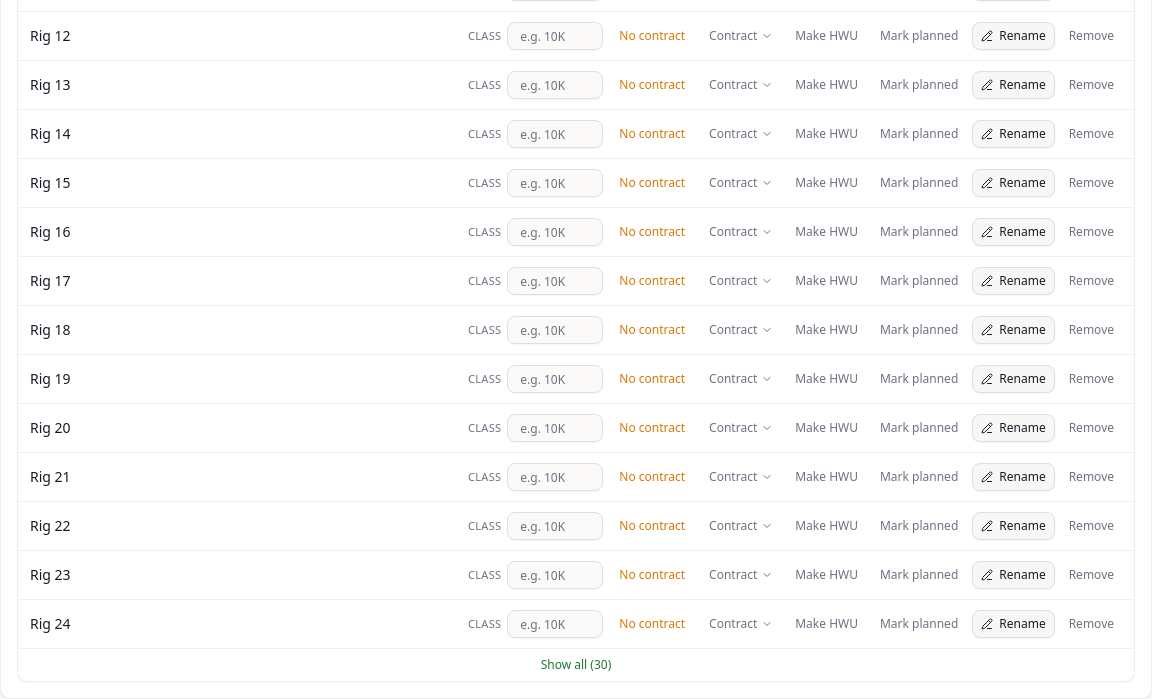
Test: ResourceRegistryPanel › collapses a long tab behind a Show all expander
The width and height of the screenshot is (1152, 699).
(page scrolled)
Expected: the text "Rig 29" is not shown
Click the button "Show all (30)" at (576, 664), box top-left (18, 648), bottom-right (1134, 681)
(page scrolled)
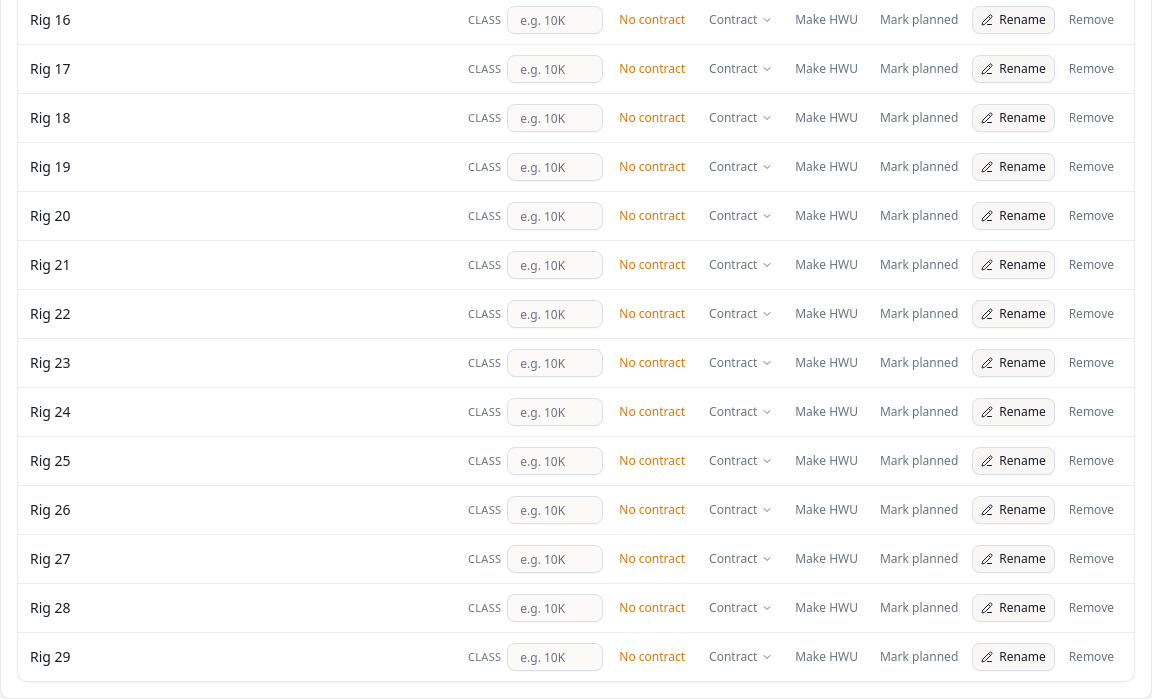
Now the text "Rig 29" is shown, box top-left (30, 647), bottom-right (71, 667)
